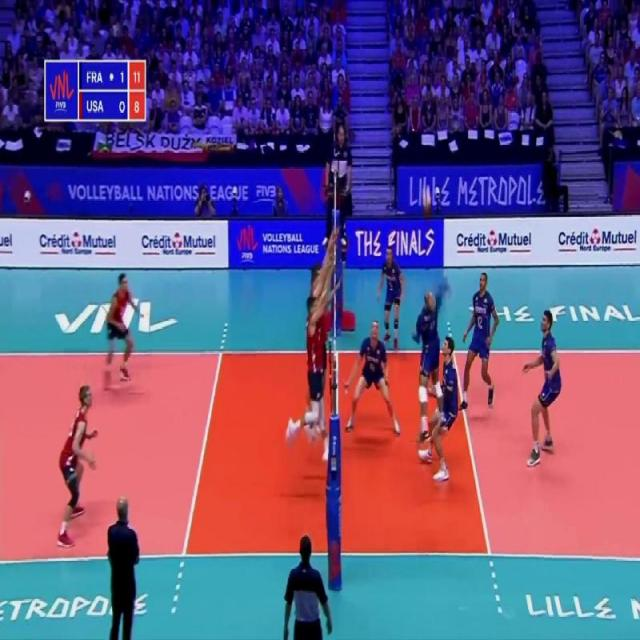volleyball: (422, 191, 431, 207)
